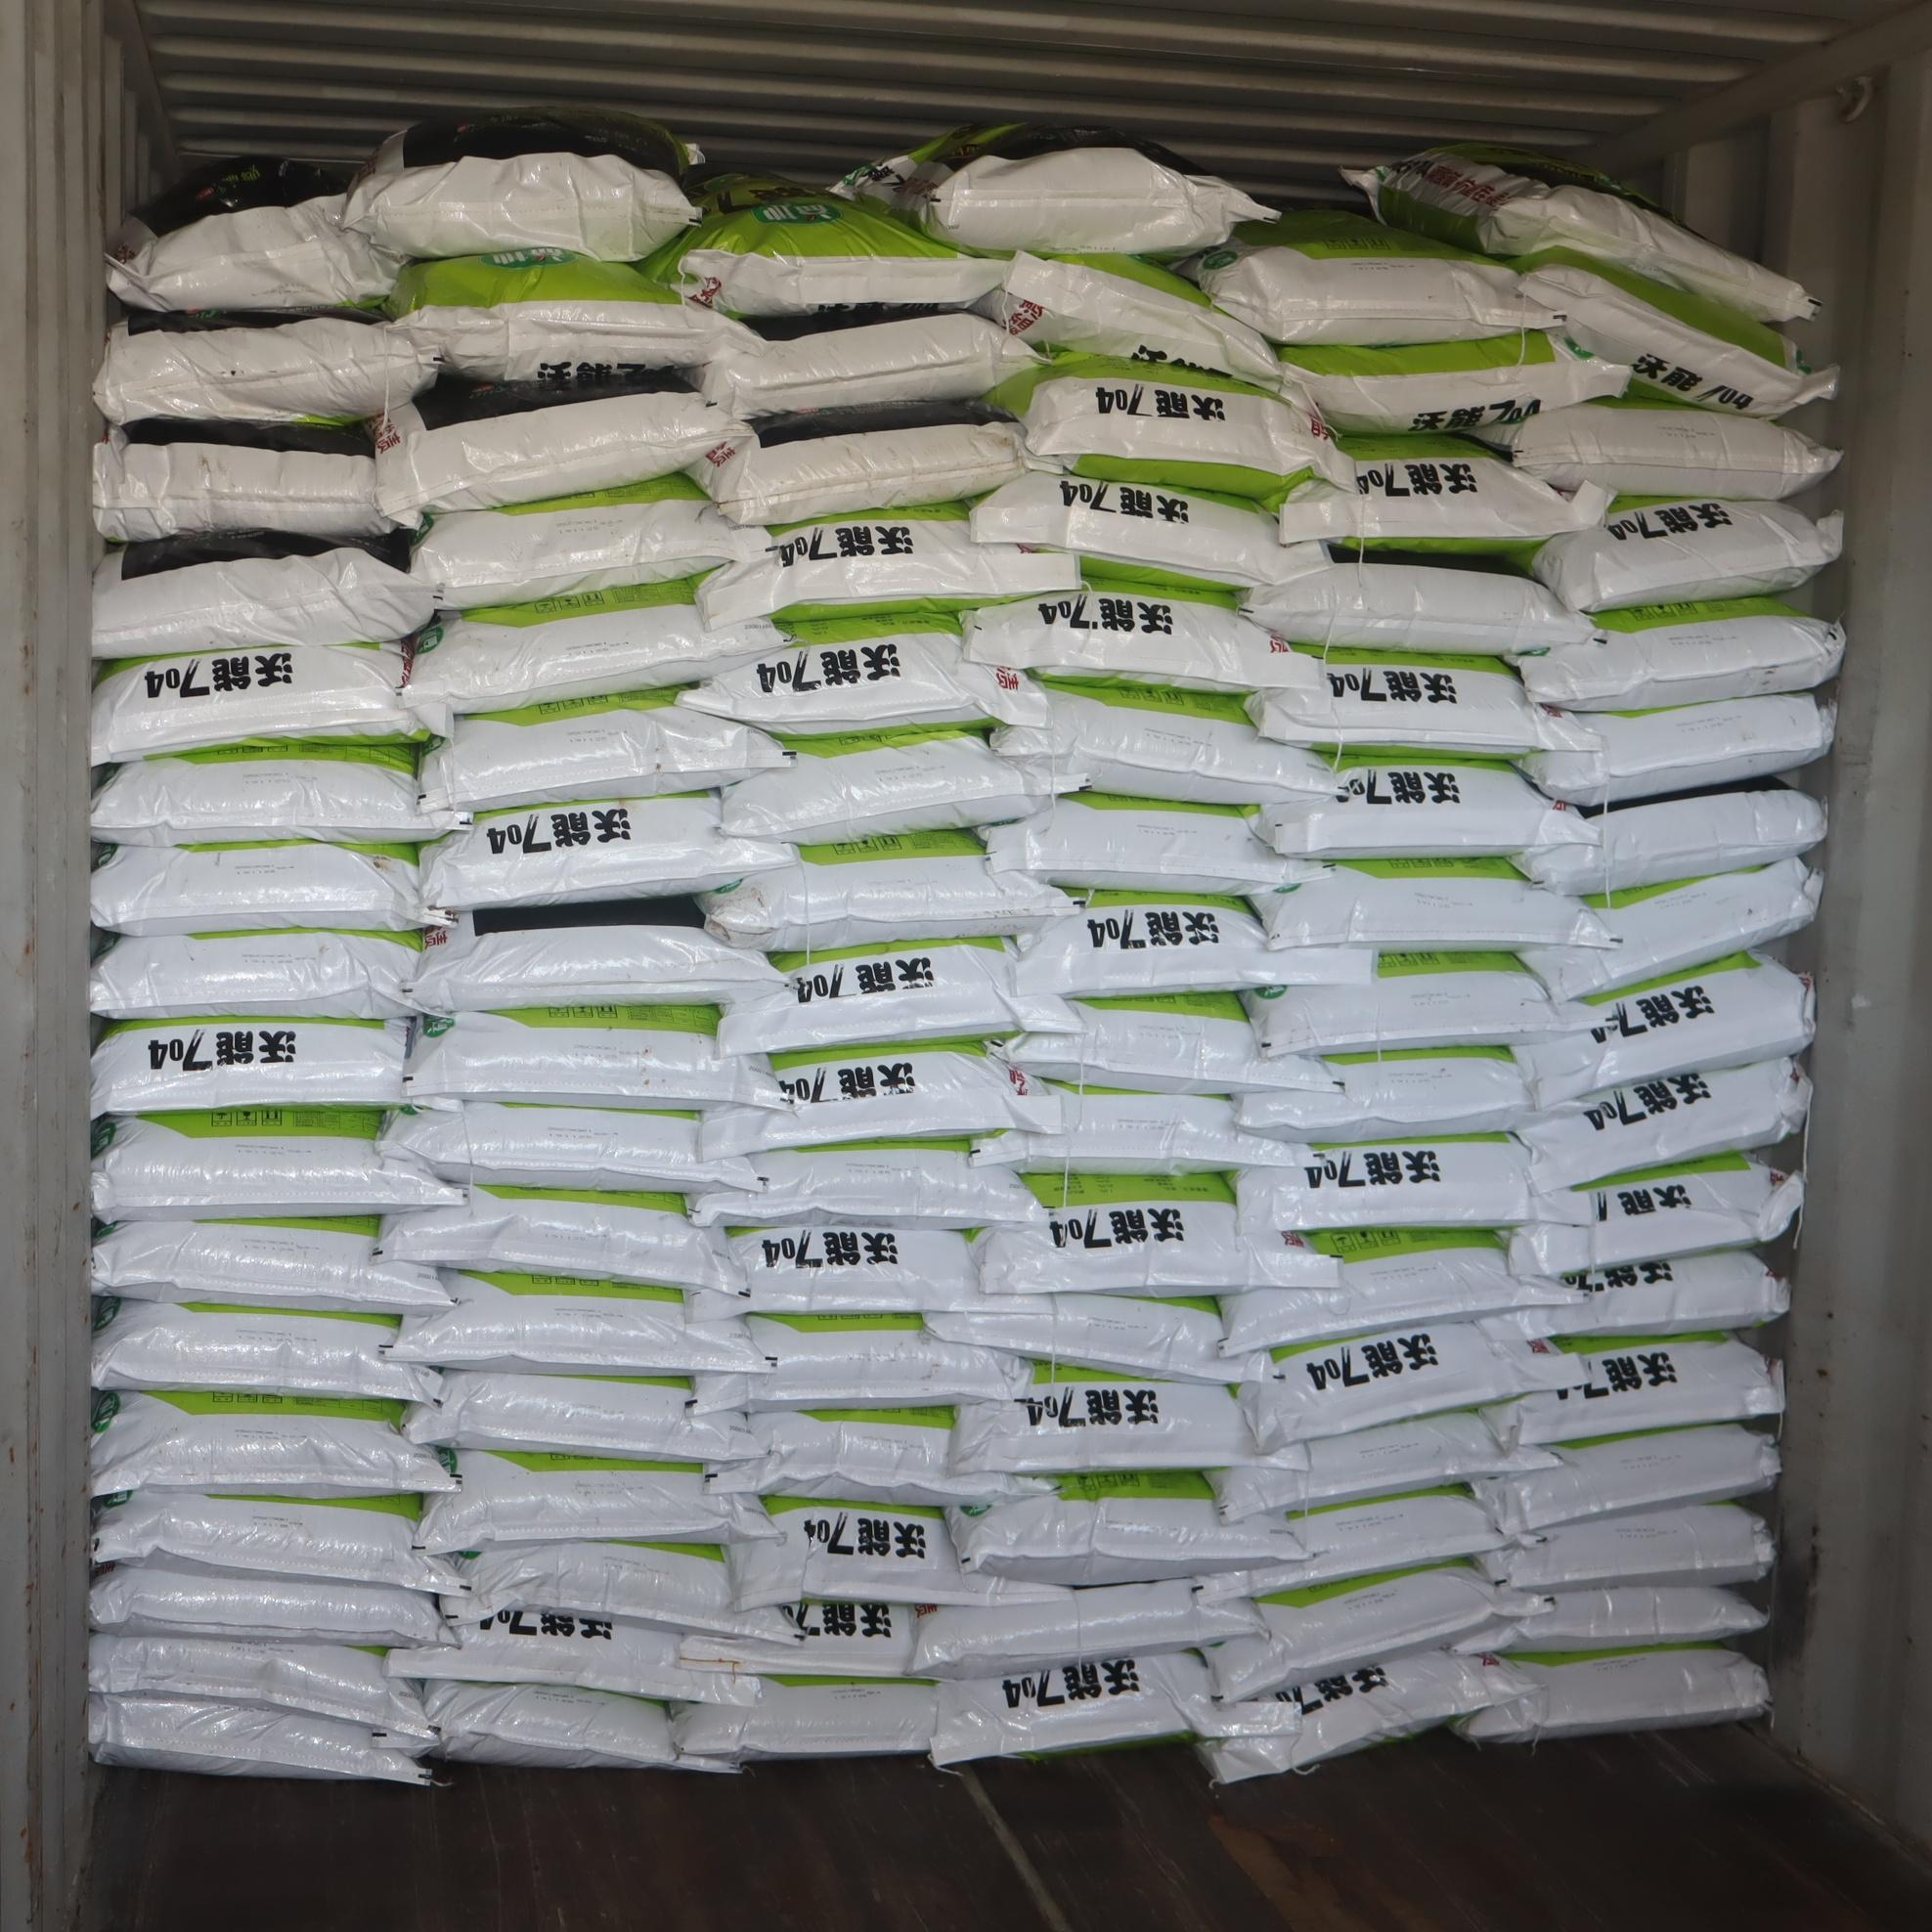sack: (1518, 954, 1813, 1109), (1207, 1566, 1539, 1700), (683, 612, 1042, 736), (1198, 1651, 1532, 1782), (702, 833, 1072, 950), (973, 1175, 1330, 1295), (92, 642, 448, 763), (971, 469, 1327, 589), (423, 796, 794, 909), (701, 511, 1077, 623), (421, 695, 786, 809), (994, 685, 1339, 803), (964, 580, 1322, 694), (90, 1635, 433, 1750), (1269, 437, 1605, 554), (389, 1272, 766, 1375), (950, 1472, 1297, 1583), (92, 1392, 453, 1497), (380, 1189, 743, 1292), (1017, 893, 1369, 998), (1247, 649, 1591, 755), (407, 1010, 778, 1108), (1525, 1060, 1808, 1187), (92, 748, 458, 846), (1514, 602, 1844, 709), (1520, 694, 1833, 807), (725, 734, 1053, 842), (1529, 499, 1838, 612), (1511, 1155, 1801, 1276), (96, 1302, 439, 1403), (88, 1219, 449, 1313), (996, 996, 1330, 1093), (1518, 789, 1824, 892), (1486, 1338, 1782, 1444), (88, 1695, 428, 1783), (931, 1295, 1269, 1382), (1454, 1649, 1767, 1741), (1481, 1506, 1773, 1589)
